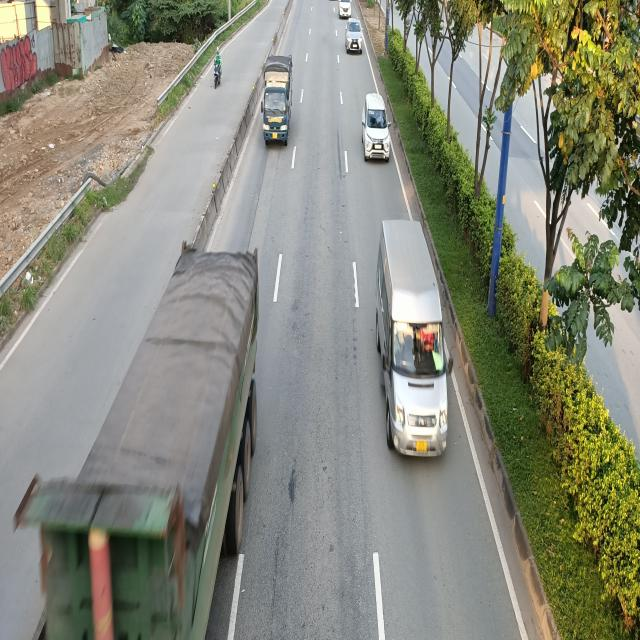car: (361, 94, 390, 163), (346, 18, 363, 54)
container: (25, 250, 262, 640)
truck: (261, 54, 293, 147)
van: (378, 218, 458, 455)
